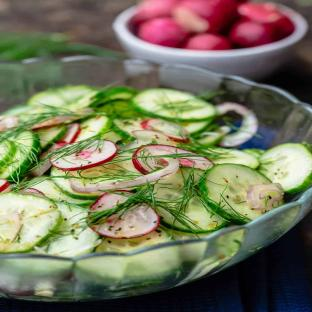Cucumber: (155, 168, 226, 233), (201, 164, 270, 224), (0, 193, 60, 252), (42, 203, 99, 257), (132, 89, 216, 121), (259, 143, 311, 193), (96, 227, 173, 253), (0, 131, 40, 181), (51, 167, 99, 201), (34, 180, 94, 206), (0, 192, 56, 218), (28, 86, 92, 107), (206, 146, 259, 168), (76, 115, 111, 141), (92, 87, 137, 107), (95, 101, 142, 119), (36, 125, 67, 152), (67, 91, 98, 111), (113, 119, 142, 136), (0, 141, 16, 171), (182, 121, 210, 135), (198, 132, 223, 145), (2, 106, 33, 116), (102, 131, 124, 142), (242, 149, 265, 158)
